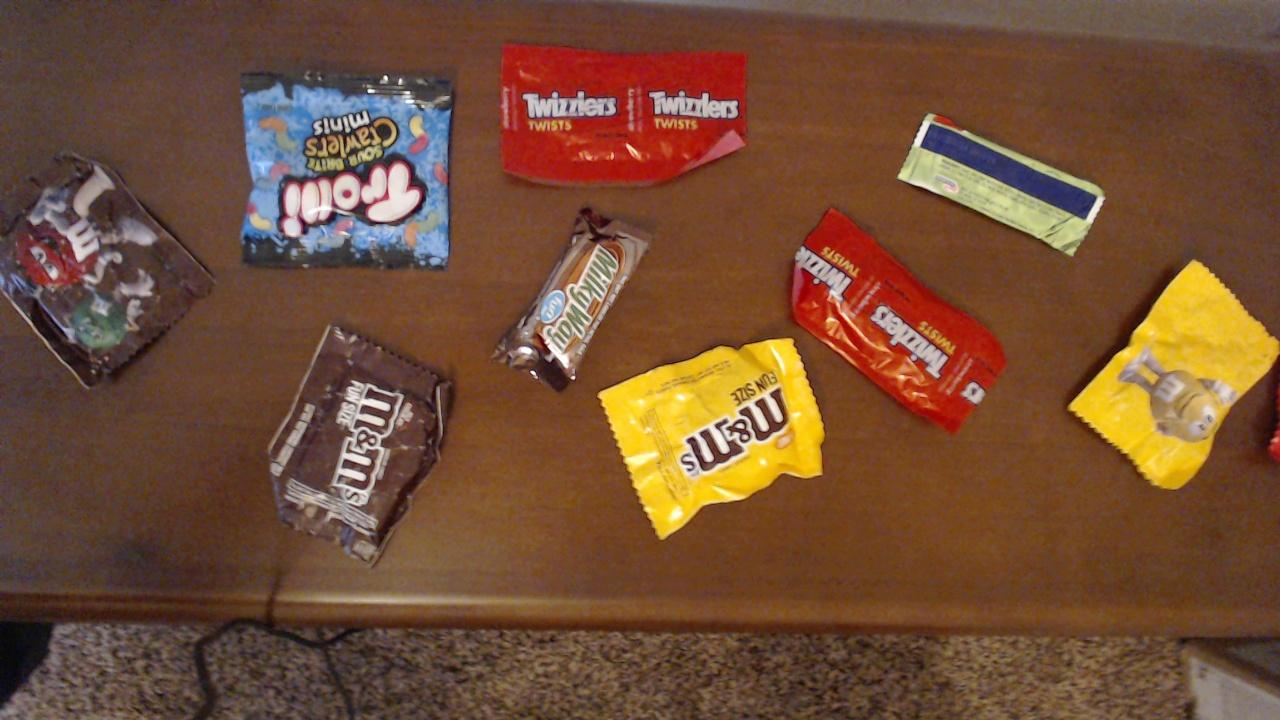MM_regular: (3, 151, 219, 385), (265, 325, 455, 566)
MM_yellow: (1065, 258, 1280, 489), (600, 339, 822, 539)
Trolli: (239, 71, 458, 271)
airheads: (898, 112, 1109, 256)
milky_way: (488, 204, 654, 392)
twizzlers: (795, 206, 1012, 434), (498, 44, 749, 188)
